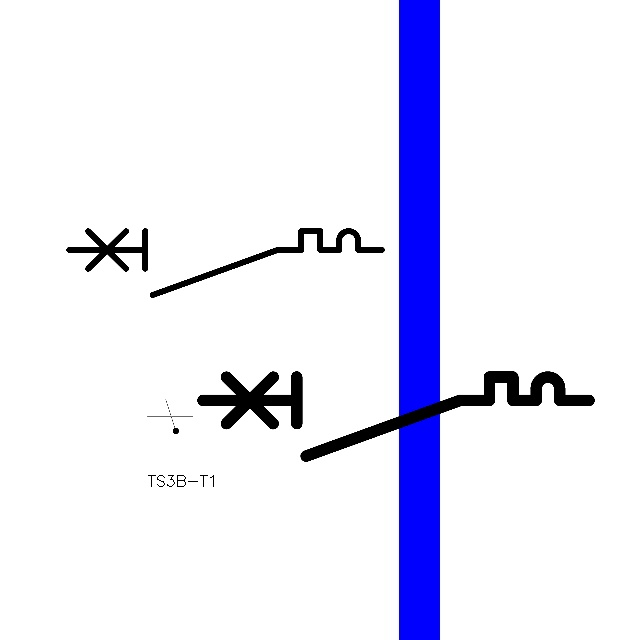interruptor_termomagnetico: (192, 367, 598, 466), (61, 223, 390, 303)
